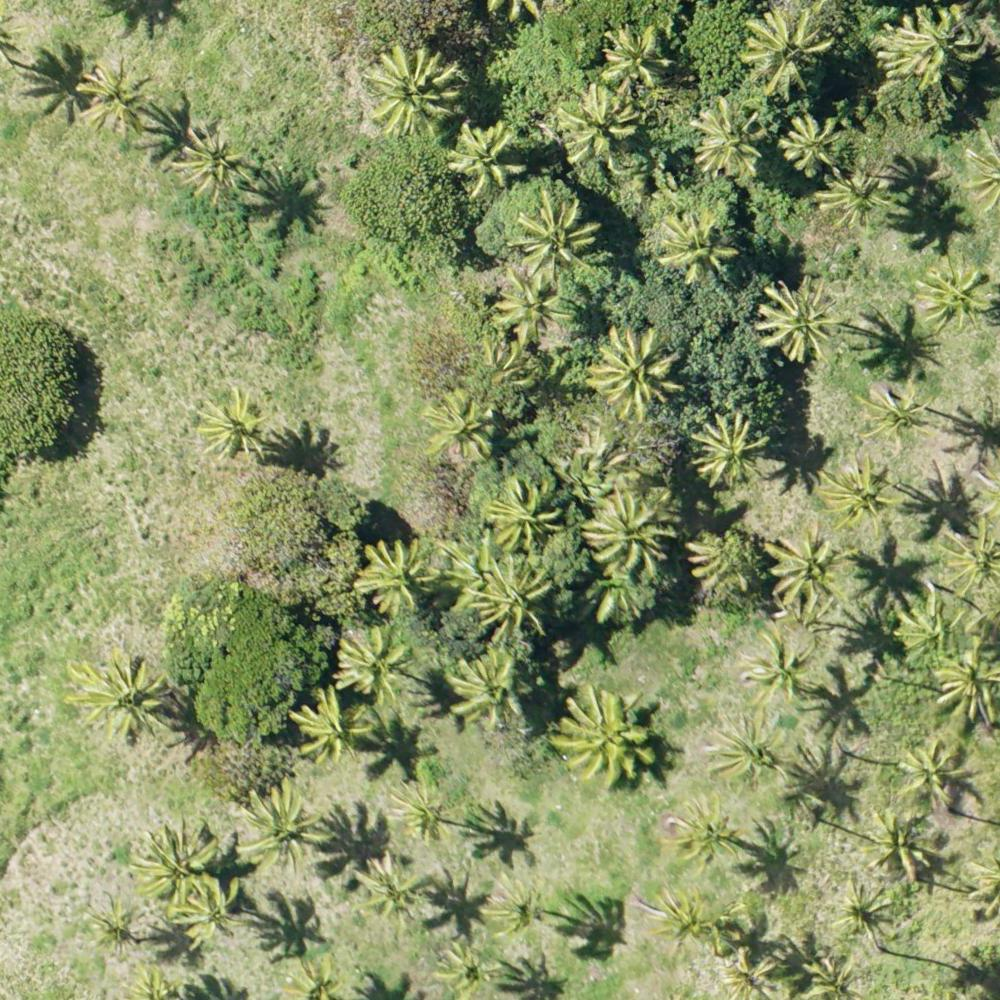Palm: (554, 689, 656, 788), (880, 9, 983, 94), (367, 43, 461, 135), (75, 648, 170, 739), (591, 327, 685, 414), (237, 783, 333, 867), (745, 9, 832, 98), (135, 825, 225, 910), (514, 194, 600, 282), (584, 492, 670, 576), (757, 280, 847, 359), (767, 531, 850, 614), (448, 651, 530, 732), (348, 855, 429, 935), (914, 251, 992, 333), (356, 540, 440, 615), (690, 95, 769, 174), (863, 807, 940, 884), (557, 84, 635, 160), (472, 560, 551, 635), (178, 125, 253, 201), (289, 690, 364, 766), (647, 883, 722, 958), (492, 275, 573, 344), (453, 122, 529, 195), (484, 479, 563, 549), (600, 22, 676, 94), (335, 630, 416, 697), (657, 212, 736, 280), (79, 62, 151, 136), (691, 419, 770, 484), (200, 389, 271, 461), (893, 598, 965, 669), (858, 381, 933, 449), (820, 454, 892, 524), (818, 164, 891, 233), (422, 389, 493, 459), (713, 715, 784, 785), (745, 635, 815, 706), (936, 519, 1000, 596), (934, 649, 1000, 723), (667, 797, 735, 865), (387, 779, 456, 846), (898, 740, 961, 811), (434, 938, 506, 1000), (82, 895, 149, 960), (175, 884, 246, 943), (830, 877, 895, 941), (483, 873, 545, 935), (785, 114, 840, 177)
